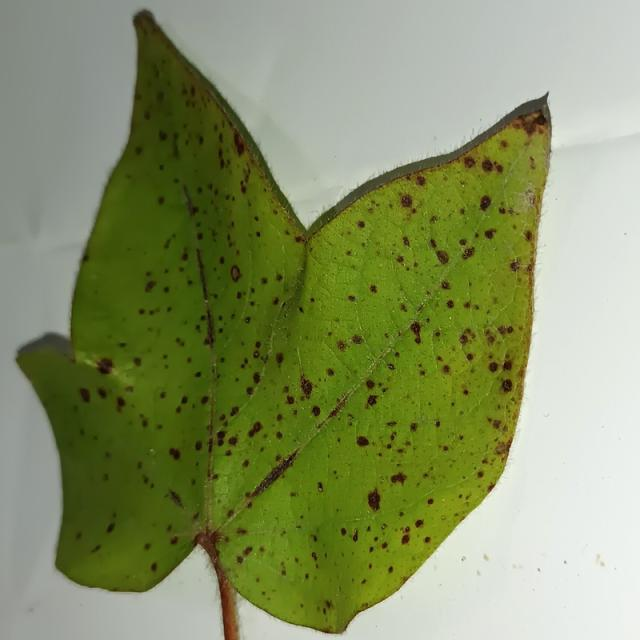Bacterial_Blight: (251, 444, 301, 499), (355, 486, 386, 511), (362, 276, 389, 299), (323, 398, 346, 423), (521, 114, 543, 135), (298, 374, 314, 399), (458, 241, 475, 261), (96, 358, 113, 374), (410, 322, 422, 344), (233, 131, 244, 151), (435, 250, 449, 265), (495, 441, 510, 455), (390, 472, 406, 485), (248, 422, 261, 438), (479, 195, 492, 211), (79, 387, 91, 403), (230, 265, 241, 282), (481, 159, 494, 173), (400, 195, 413, 208), (463, 156, 476, 169), (168, 447, 180, 461), (144, 280, 156, 293), (366, 395, 379, 407), (356, 436, 370, 447), (241, 546, 252, 559), (216, 431, 226, 445), (498, 325, 512, 335), (416, 175, 427, 187), (351, 334, 363, 345), (484, 229, 496, 240), (227, 435, 238, 447), (97, 387, 108, 399), (116, 396, 126, 409), (203, 333, 213, 346), (502, 380, 513, 391), (510, 261, 520, 273), (459, 332, 468, 345), (311, 406, 321, 417), (492, 419, 502, 430), (401, 533, 410, 545), (106, 522, 115, 534), (275, 352, 284, 364), (524, 230, 533, 242), (158, 130, 167, 142), (253, 371, 261, 384), (365, 379, 375, 389), (440, 280, 450, 290), (441, 365, 451, 375), (337, 341, 347, 351), (503, 360, 512, 371), (489, 362, 498, 373), (230, 406, 239, 417), (181, 250, 189, 262), (133, 357, 142, 367), (200, 395, 209, 405), (91, 544, 101, 553), (323, 600, 331, 611), (429, 238, 437, 249), (352, 530, 359, 542), (402, 237, 410, 247), (180, 395, 188, 405), (446, 299, 454, 309), (195, 441, 203, 451), (134, 146, 142, 156), (396, 255, 404, 264), (410, 422, 418, 431), (415, 519, 423, 528), (286, 396, 294, 405), (157, 196, 165, 205), (170, 536, 178, 545), (487, 484, 495, 493), (236, 528, 246, 535), (466, 353, 474, 361), (357, 220, 365, 228), (459, 238, 467, 246), (275, 273, 283, 281), (387, 362, 395, 370), (340, 527, 347, 536), (150, 562, 157, 571), (196, 232, 203, 241), (75, 531, 82, 540), (348, 295, 356, 302), (424, 536, 431, 544), (261, 277, 268, 285), (159, 391, 166, 399), (311, 552, 317, 561), (219, 256, 225, 265), (427, 498, 434, 505), (236, 291, 242, 299), (298, 306, 304, 314), (388, 566, 394, 573)
Cotton: (16, 10, 550, 633)
